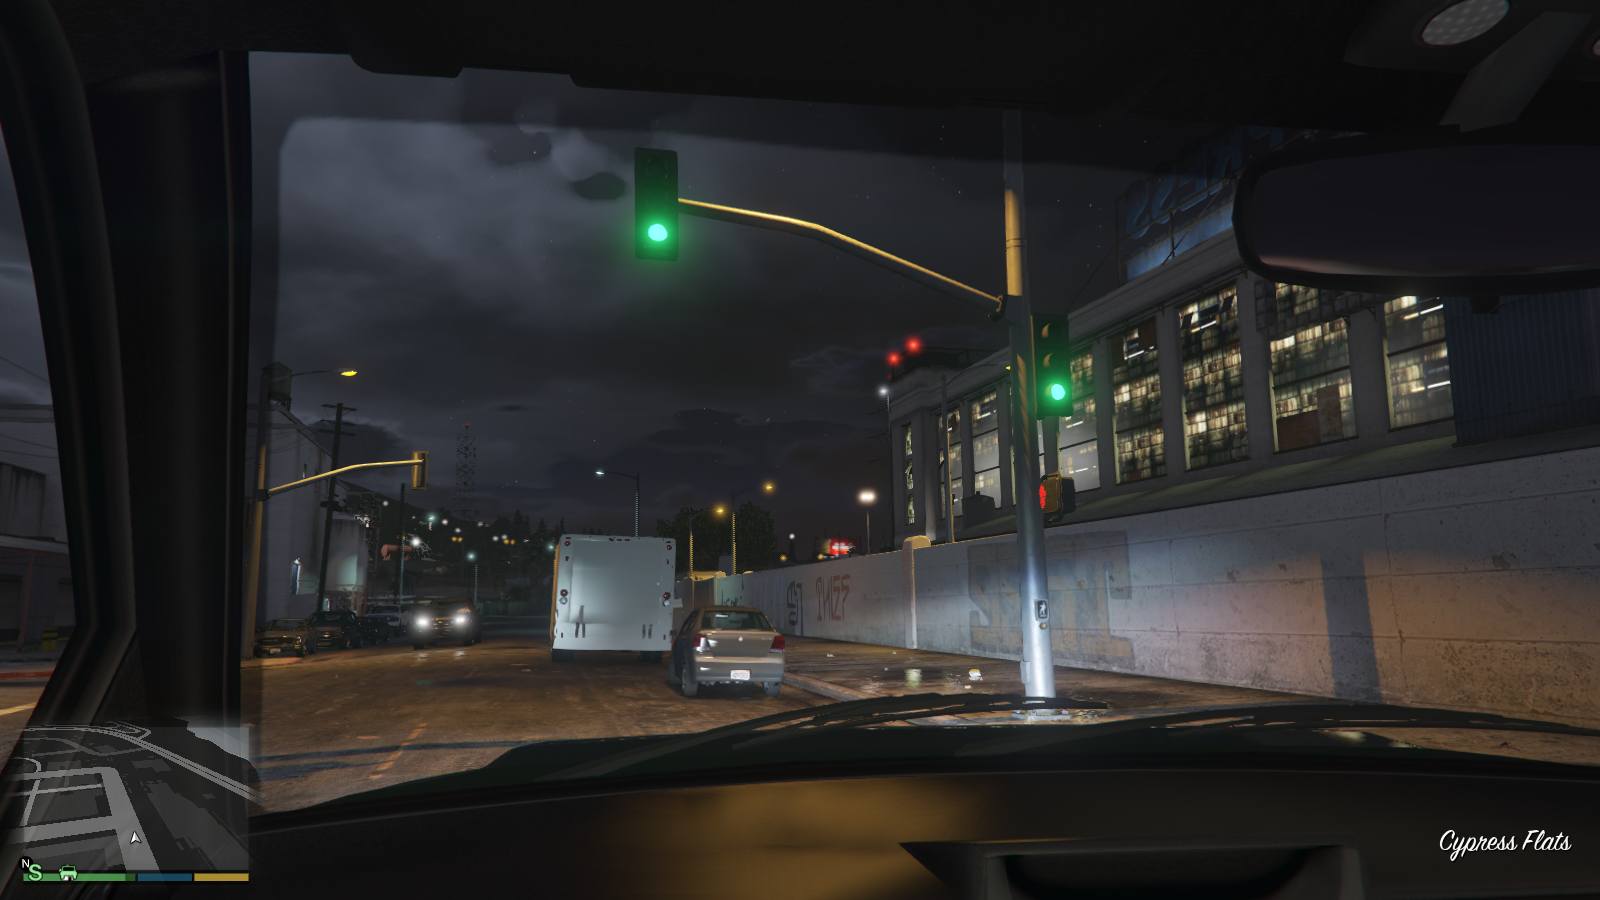green: (634, 148, 682, 262), (1032, 308, 1078, 422)
